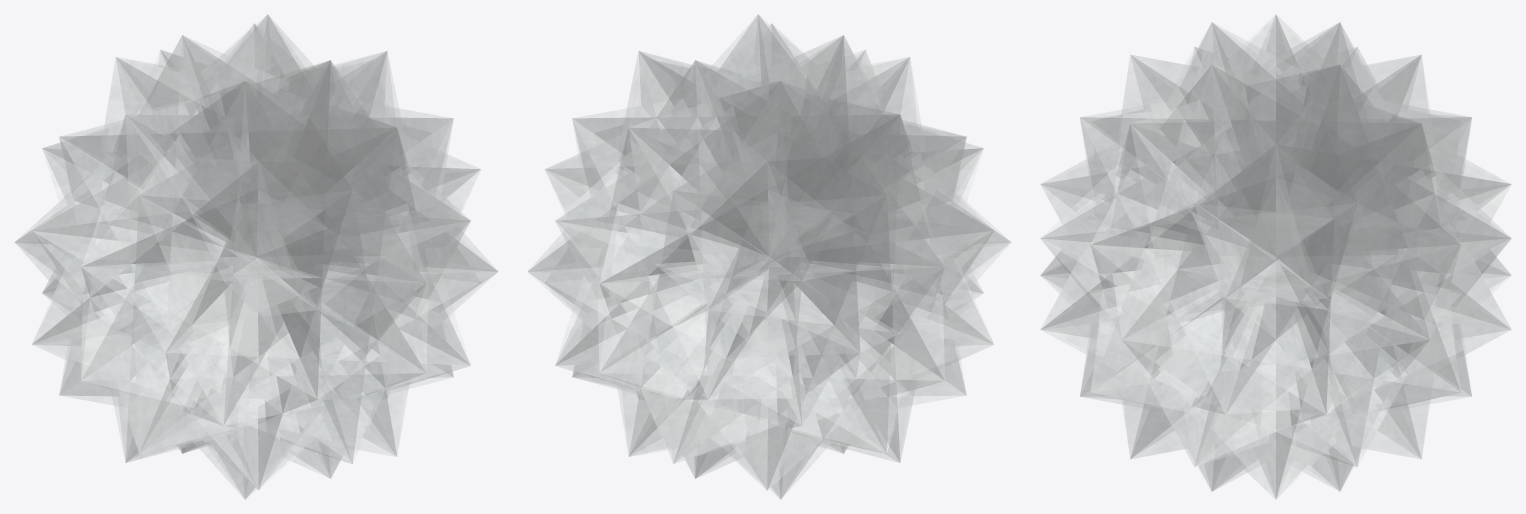
The model's file is GreatDirhombicosidodecahedronA.gltf.
3 renders of one model, left to right at view 1: azimuth 30°, elevation 25°; view 2: azimuth 150°, elevation 25°; view 3: azimuth 270°, elevation 25°, orthographic. The views are drawn at different scales.
Visible parts, largest first — view 1: GreatDirhombicosidodecahedron12; view 2: GreatDirhombicosidodecahedron12; view 3: GreatDirhombicosidodecahedron12.
Part boxes in pixels (box(x1,y1,x2,y2)): GreatDirhombicosidodecahedron12: box(14, 14, 498, 499); GreatDirhombicosidodecahedron12: box(527, 14, 1011, 499); GreatDirhombicosidodecahedron12: box(1040, 14, 1511, 499).
Size of the model in its own units: 1.34 by 1.34 by 1.34.
Materials: 1 (1 with a texture image).
